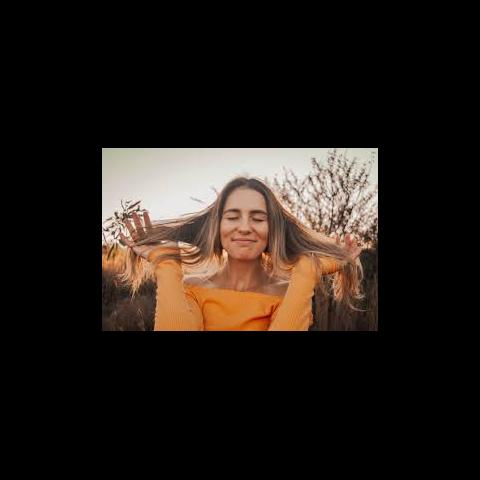closed: (218, 204, 268, 228)
